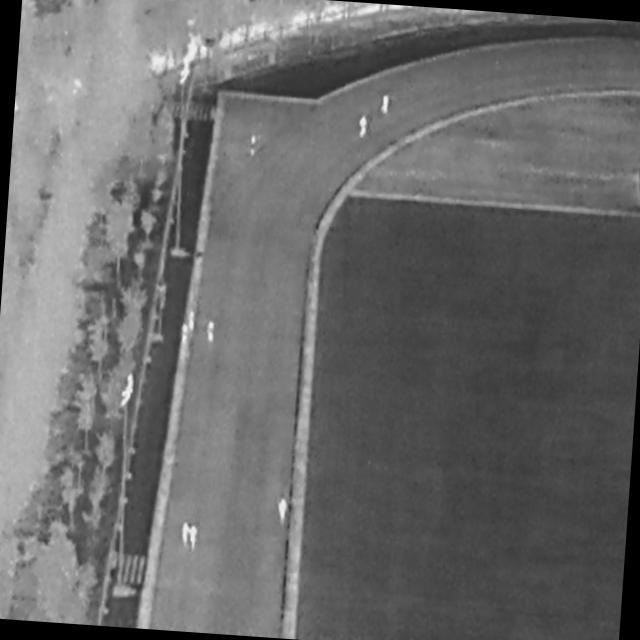person: (277, 499, 289, 529), (189, 525, 199, 553), (206, 321, 217, 344), (359, 116, 369, 140), (181, 522, 190, 547), (181, 323, 190, 347), (382, 95, 391, 117), (249, 134, 257, 157), (189, 310, 197, 331)
